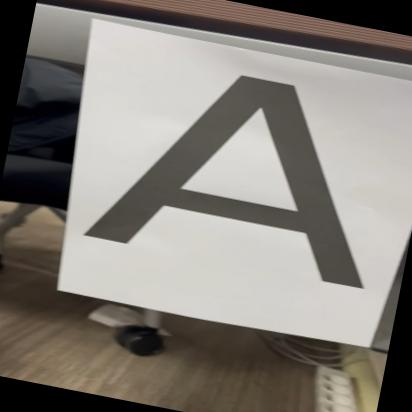seat: (69, 43, 412, 300)
